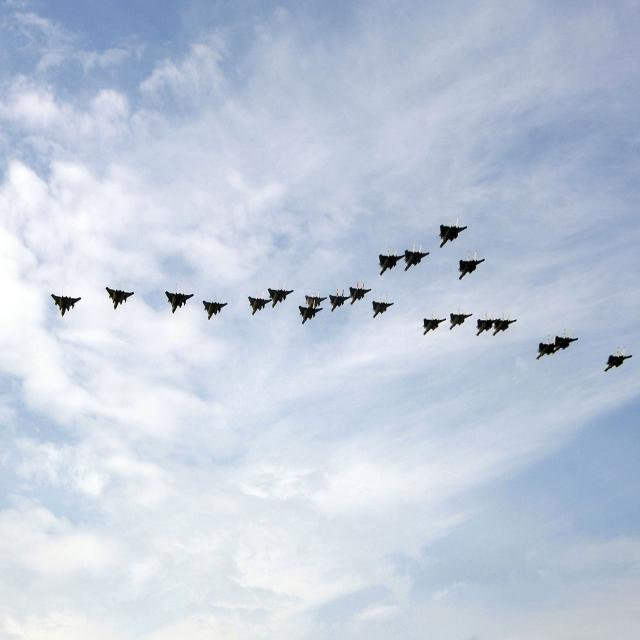MIL_Plane: (51, 285, 82, 317), (438, 216, 468, 248), (164, 283, 194, 314), (105, 280, 135, 310), (457, 249, 485, 281), (378, 245, 406, 276), (404, 241, 430, 272), (603, 346, 633, 372), (535, 333, 563, 360), (202, 292, 228, 320), (268, 281, 294, 309), (492, 309, 518, 337), (475, 309, 501, 337), (552, 328, 579, 354), (421, 310, 447, 336), (298, 298, 323, 325), (248, 290, 272, 316), (348, 280, 372, 306), (449, 305, 473, 331), (329, 286, 351, 312), (372, 294, 394, 320), (304, 288, 328, 309)
